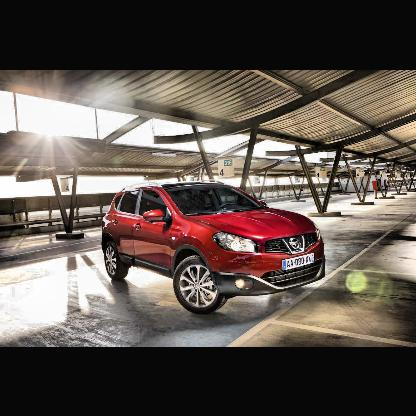Nissan Juke Hatchback 2012: (102, 178, 329, 321)
